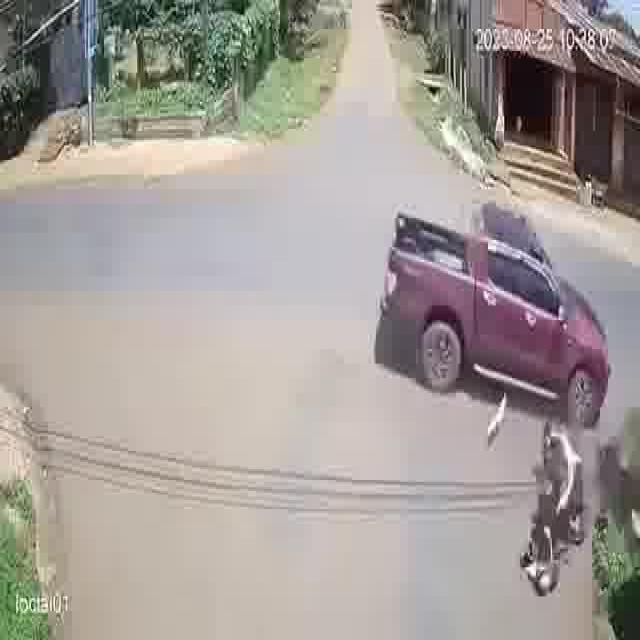multiple_accident: (372, 192, 617, 610)
